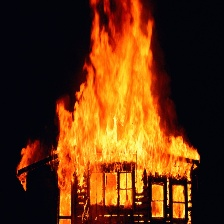fire: (16, 3, 209, 222)
